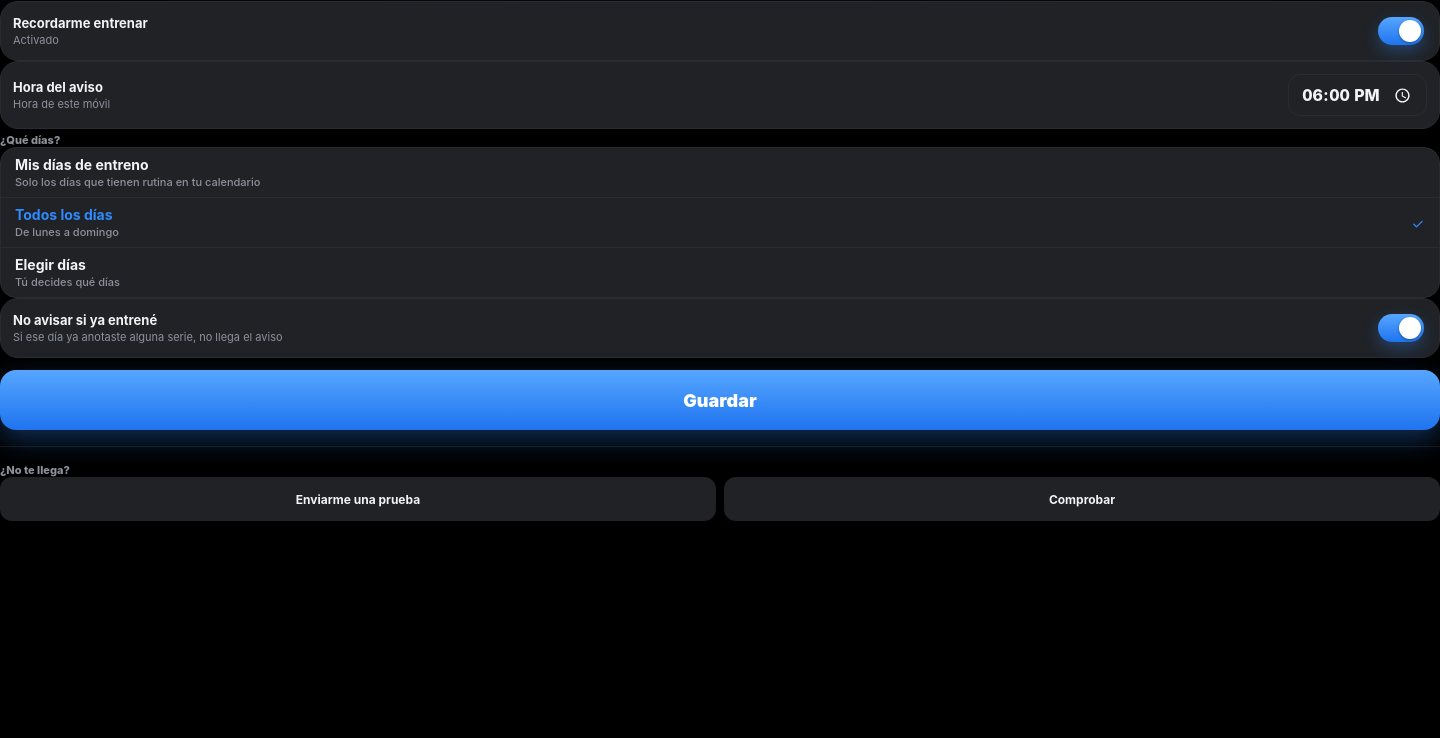
Recordatorio · ¿no te llega? › si el servicio del móvil rechazó el aviso, lo explica
Click the button "Comprobar": (1082, 499) [724,477,1439,521]
(page scrolled)
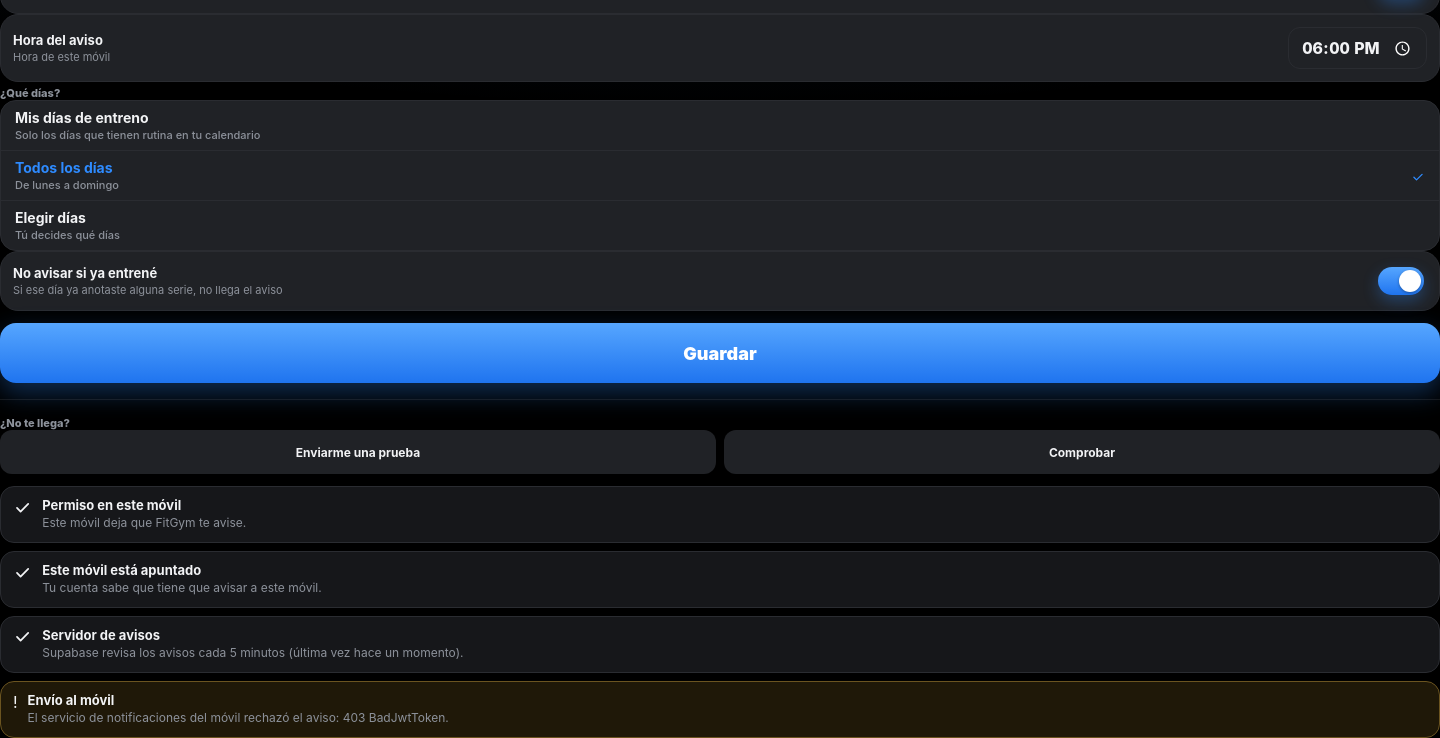
Expected: the text "403 BadJwtToken" is shown, [28,710,449,725]
